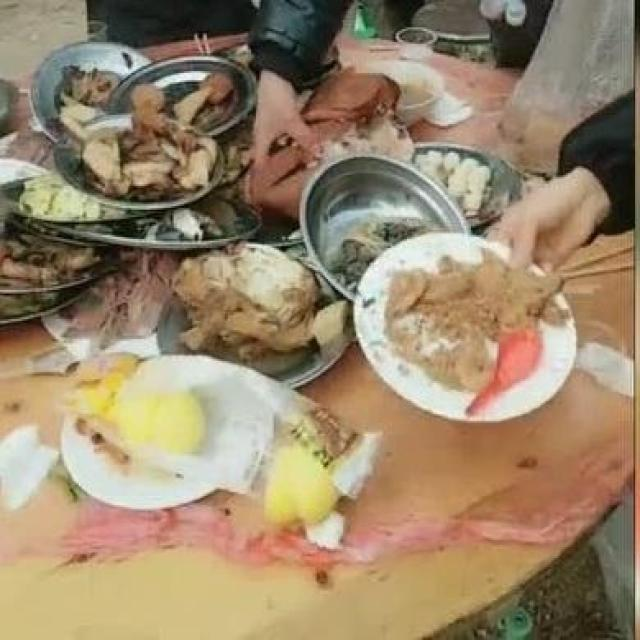Wet: (110, 383, 208, 458), (261, 440, 338, 532)
